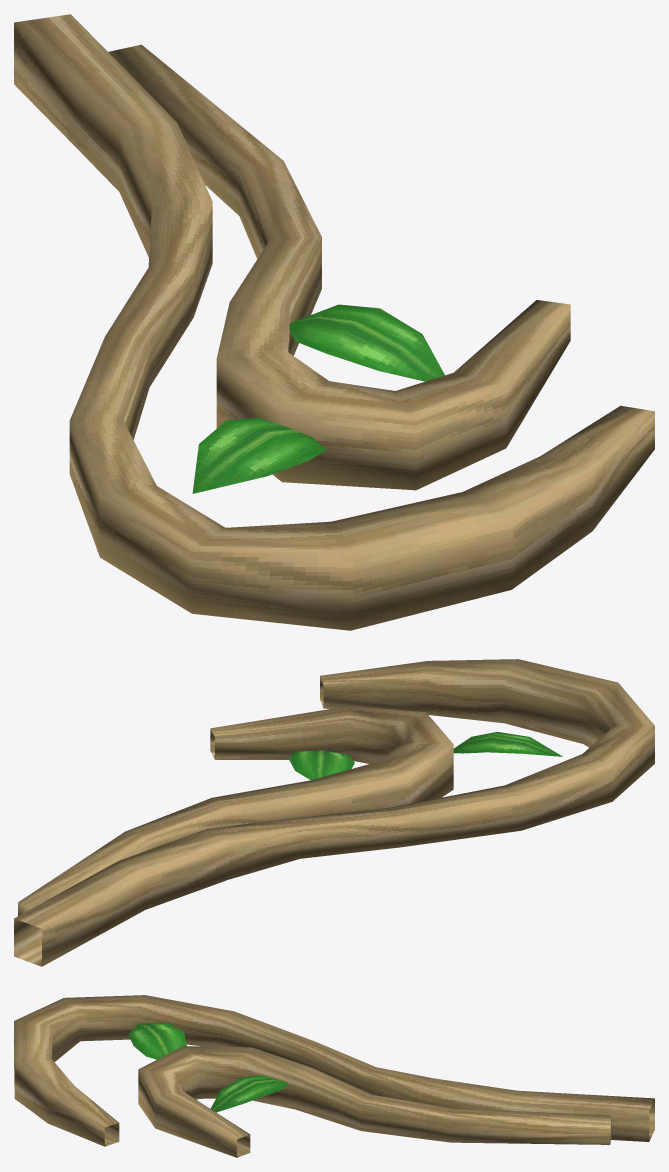
File: EKH_BARRELROOM_ANIM_JA1_GATE01__AI.fbx
3 views of the same model, one above another, from view 1: azimuth 30°, elevation 25°; view 2: azimuth 150°, elevation 25°; view 3: azimuth 270°, elevation 25° (orthographic). The views are drawn at different scales.
Parts seen in each view (by area): view 1: EKH_BARRELROOM_ANIM_JA1_GATE01__AI; view 2: EKH_BARRELROOM_ANIM_JA1_GATE01__AI; view 3: EKH_BARRELROOM_ANIM_JA1_GATE01__AI.
Part boxes in pixels (box(x1,y1,x2,y2)): EKH_BARRELROOM_ANIM_JA1_GATE01__AI: box(14, 14, 654, 630); EKH_BARRELROOM_ANIM_JA1_GATE01__AI: box(14, 659, 654, 966); EKH_BARRELROOM_ANIM_JA1_GATE01__AI: box(14, 995, 654, 1157).
Bounding box in the file's own units: 9065 × 1208 × 17787.
2 materials, 2 textured.
